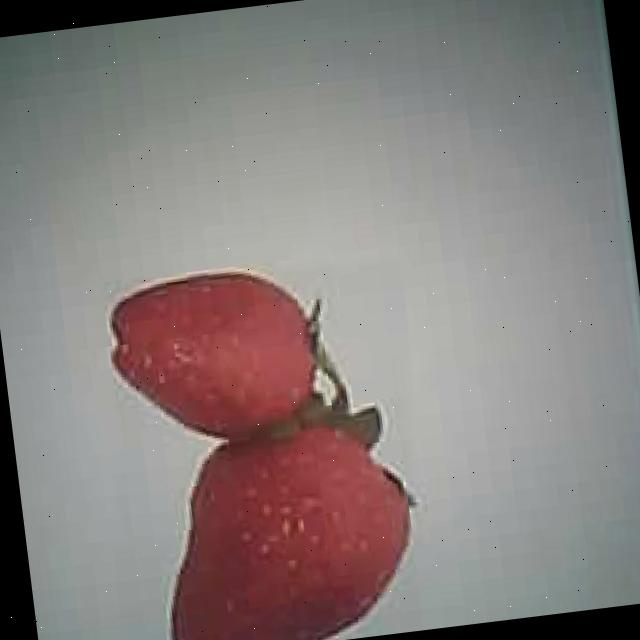strawberry: (146, 414, 417, 640), (105, 260, 326, 448)
